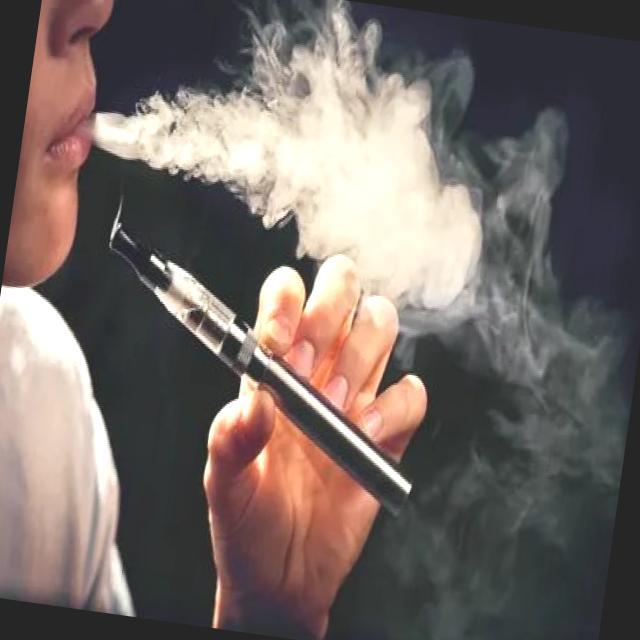smoke: (69, 219, 447, 521)
